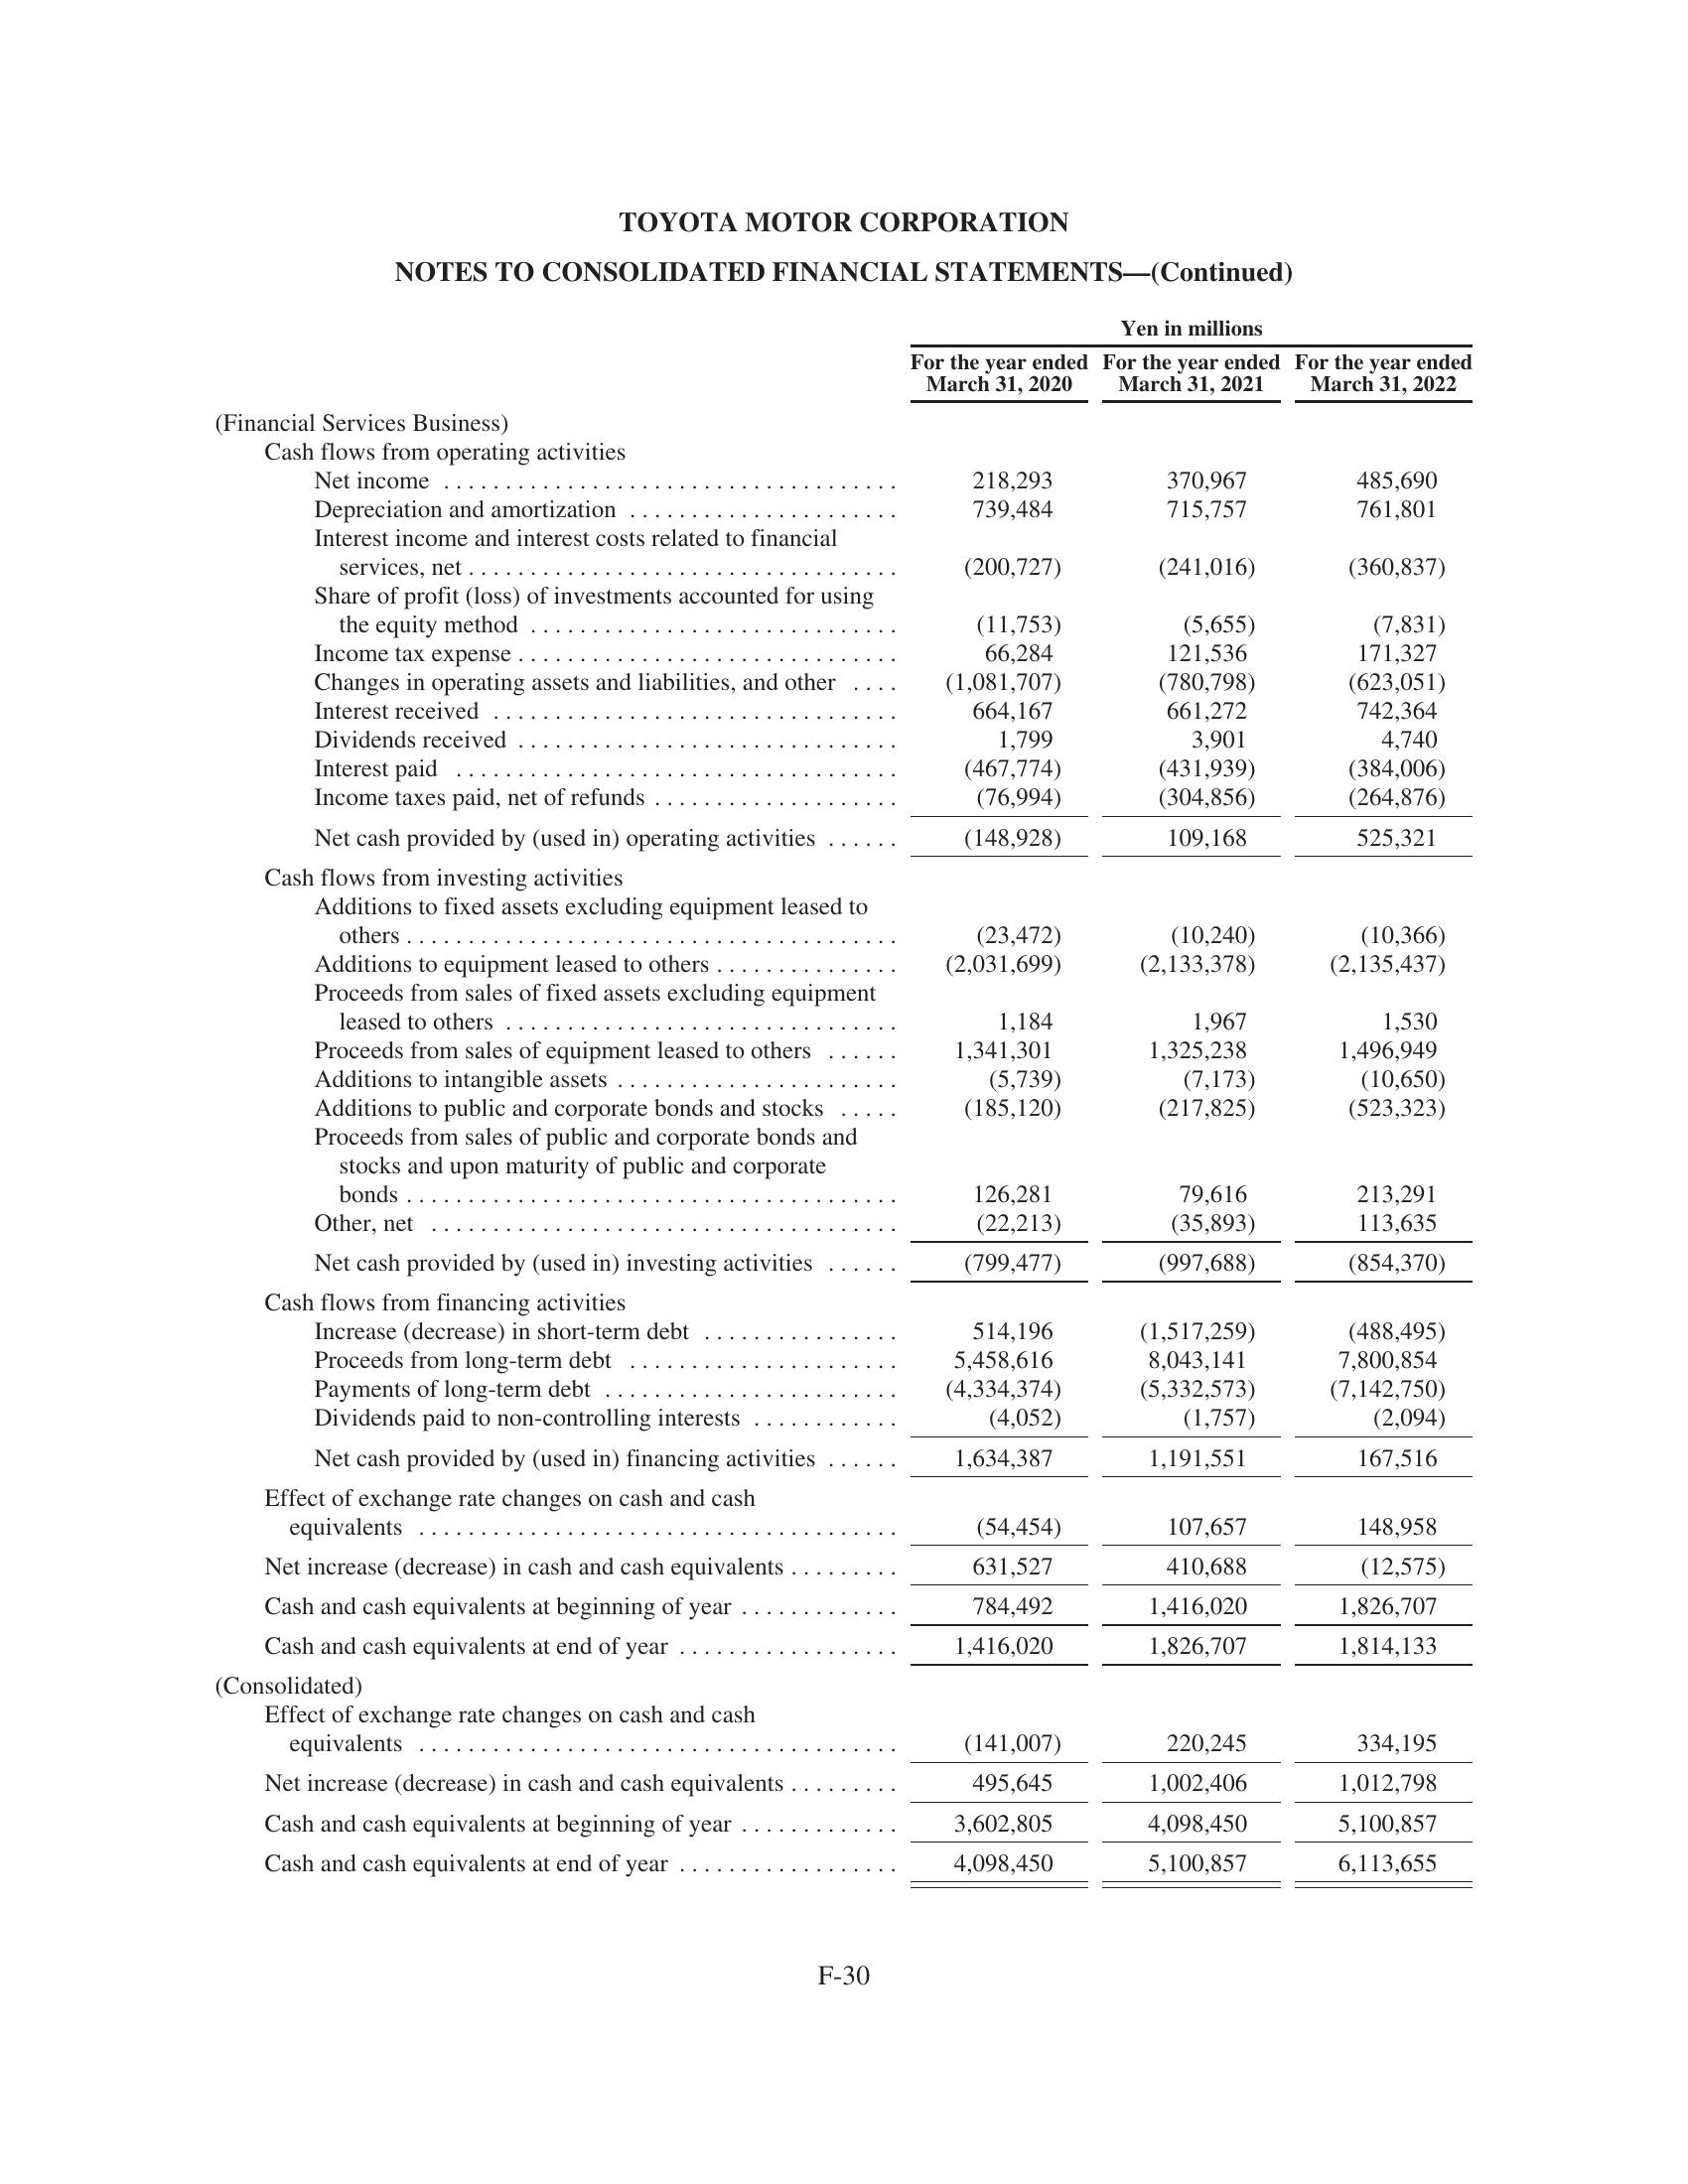Footer: (0, 1954, 1688, 2184)
Header: (0, 0, 1688, 161)
Table: (94, 301, 1491, 1920)
